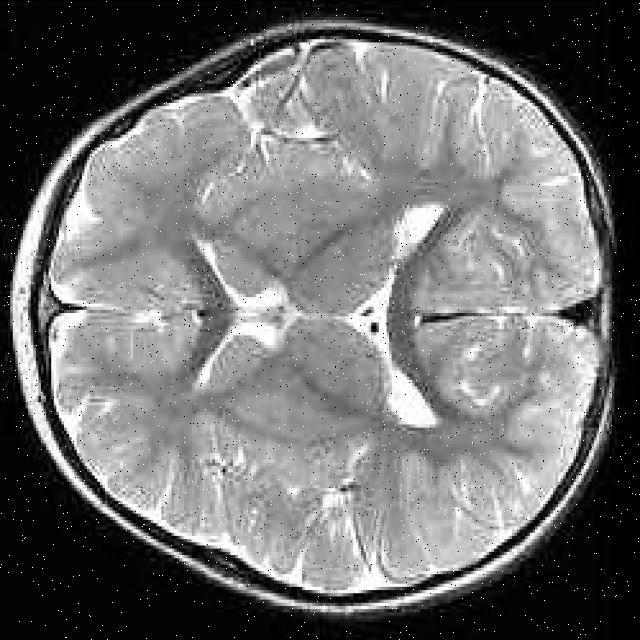No_Tumor: (12, 21, 613, 613)
